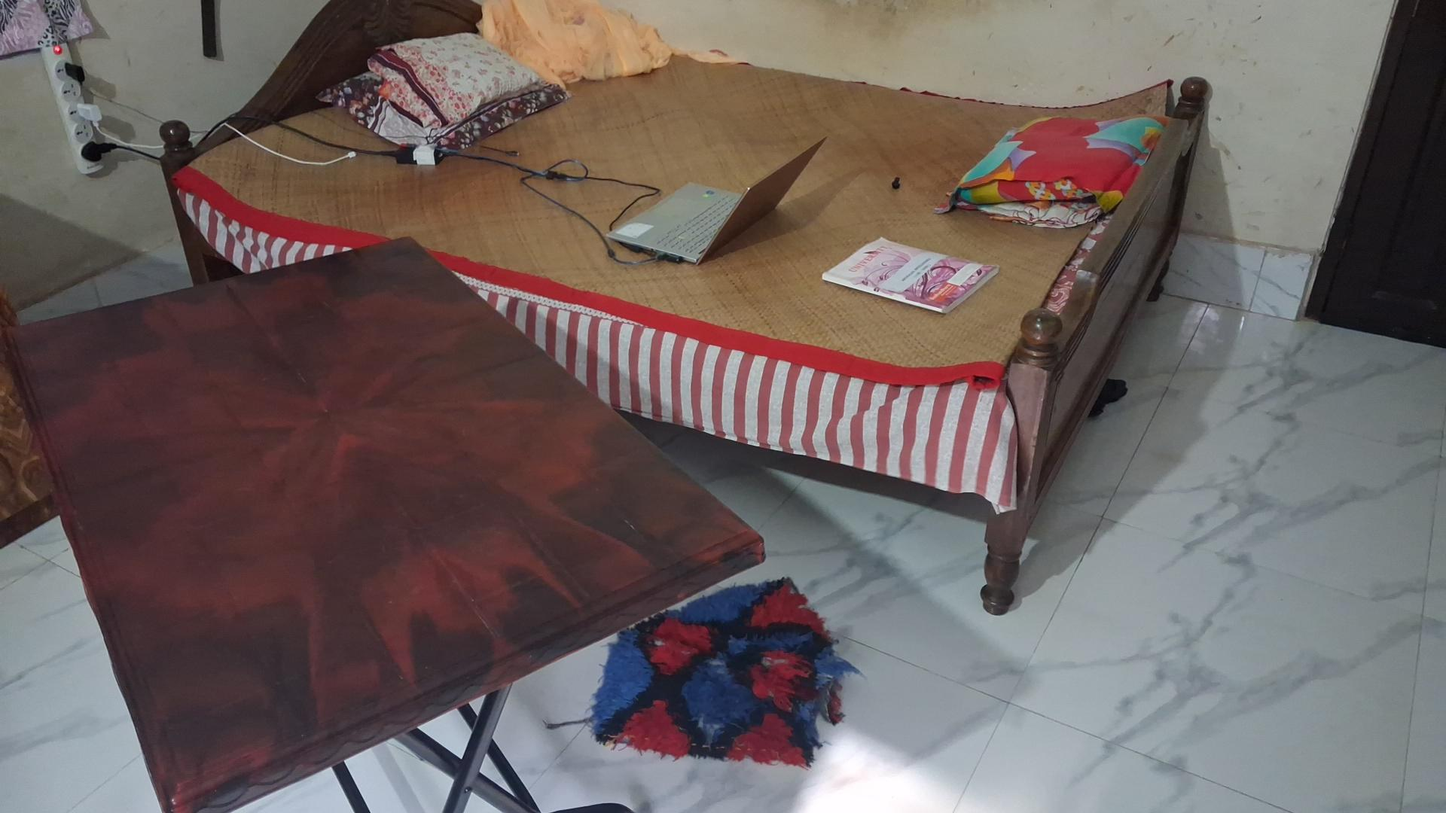Floor Mat: (592, 576, 848, 766)
Laptop: (606, 136, 826, 265)
Notebook: (821, 236, 1000, 315)
Pillow: (318, 29, 562, 162), (953, 107, 1169, 221)
Table: (5, 232, 763, 813)
